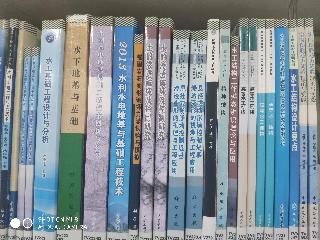book-spine: (58, 17, 87, 239), (33, 21, 61, 239), (84, 18, 111, 239), (108, 17, 133, 239), (138, 17, 158, 239), (168, 30, 189, 240), (186, 32, 205, 240), (0, 19, 17, 239), (8, 21, 25, 239), (204, 21, 219, 239), (23, 49, 40, 239), (155, 19, 169, 240), (305, 21, 319, 239), (274, 21, 287, 238), (129, 34, 142, 239), (16, 49, 30, 239), (217, 22, 229, 239), (296, 20, 307, 239), (228, 37, 239, 240), (237, 20, 247, 239), (265, 20, 274, 240), (256, 20, 265, 239), (247, 20, 256, 238), (289, 20, 297, 239)
